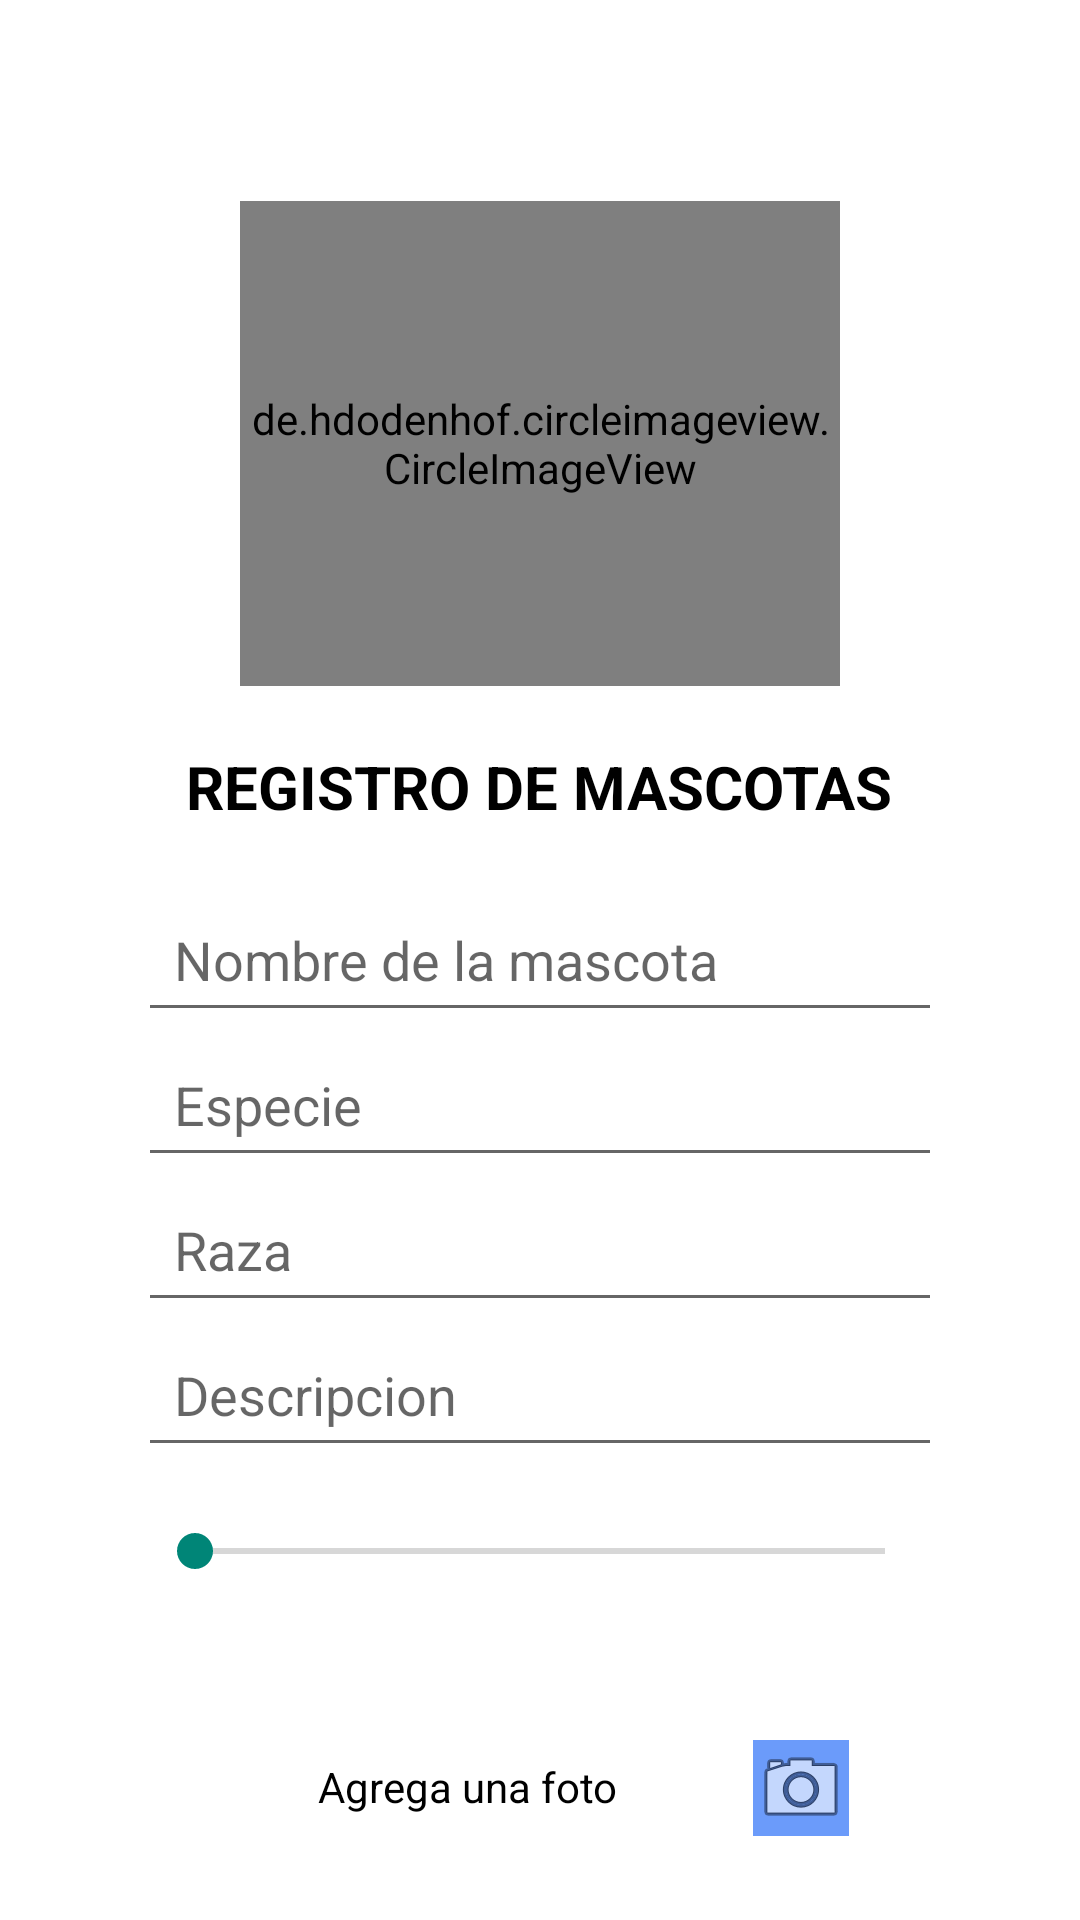

Named icons in this screenshot (1080w x 1920h) and their centers, (x,y):
camera: (801,1788)
